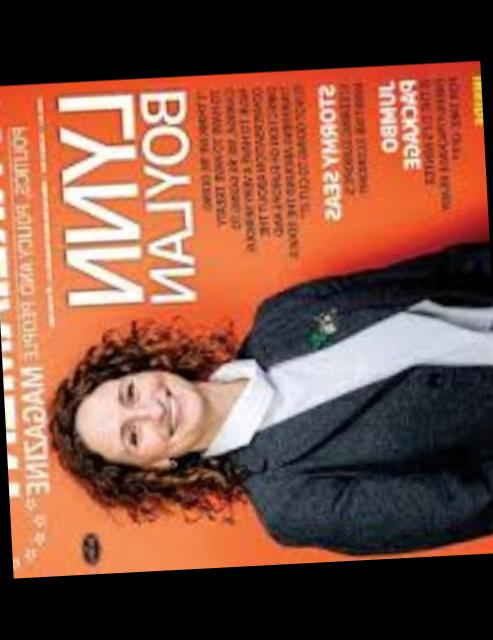cardboard paper: (0, 61, 493, 579)
